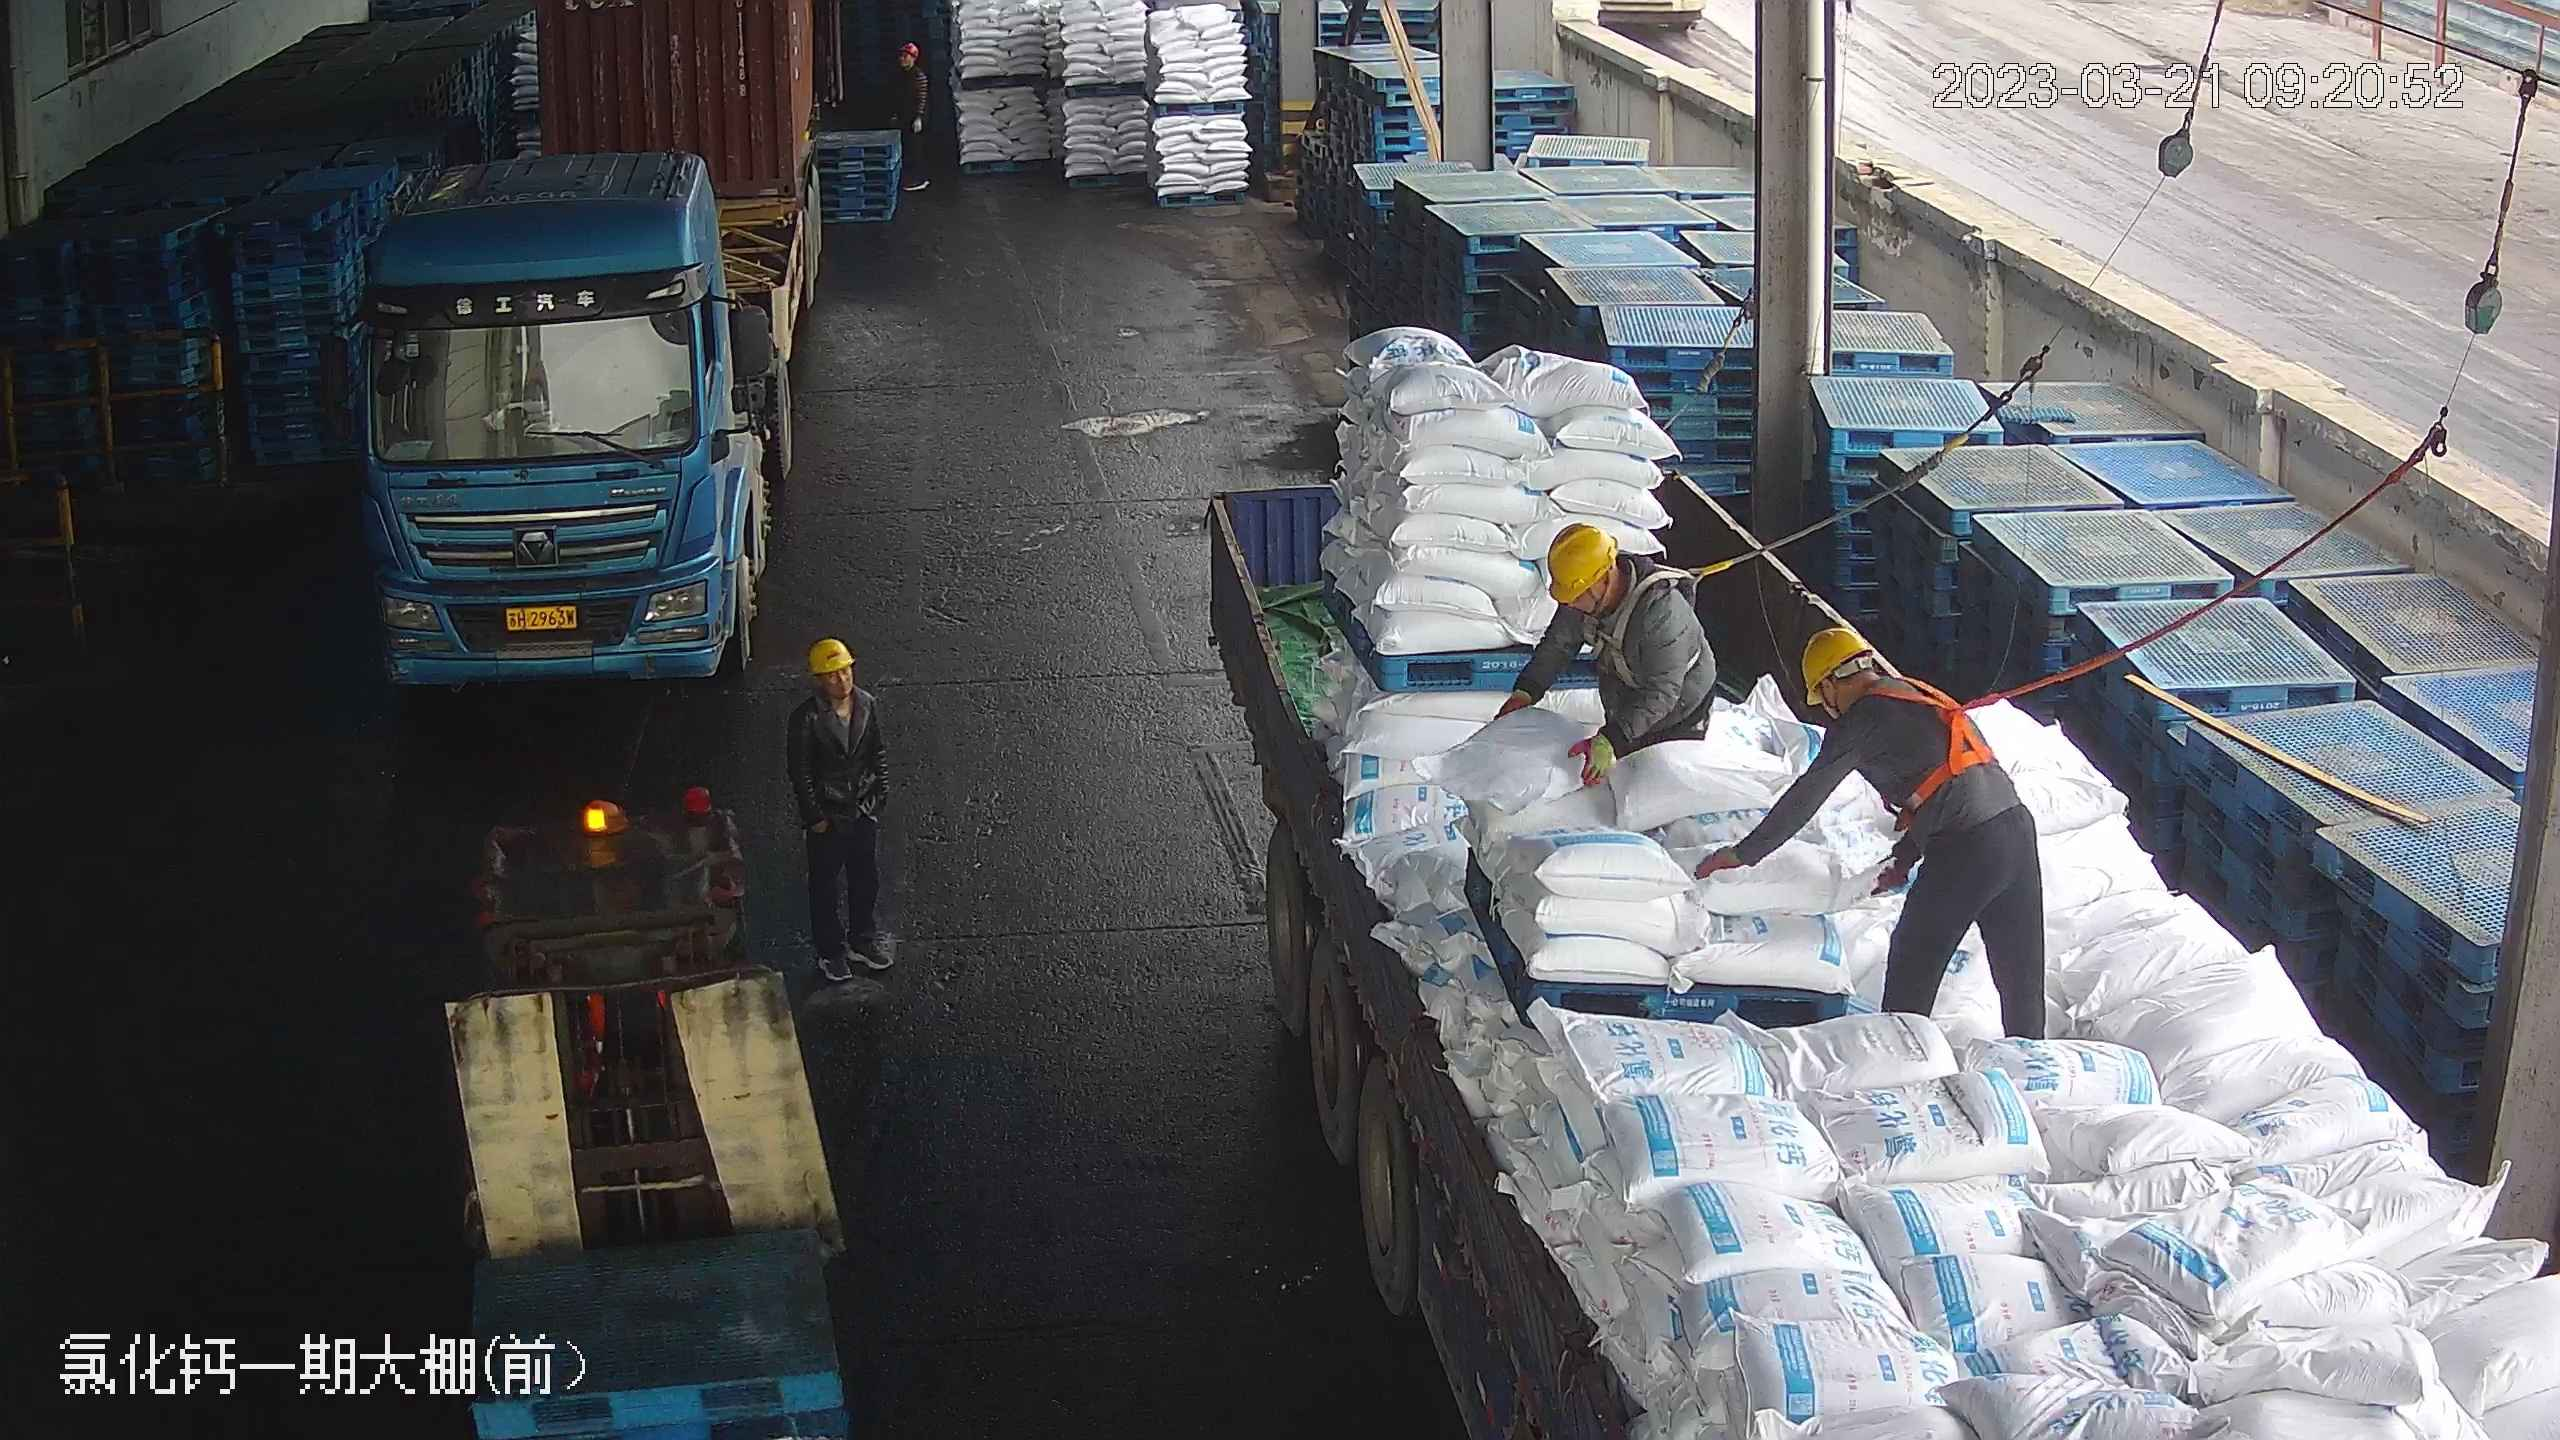belt: (1863, 668, 2017, 814), (1586, 552, 1716, 697)
head: (1793, 625, 1955, 774), (1535, 518, 1689, 660), (788, 635, 888, 745), (889, 40, 930, 89)
helmet: (1797, 624, 1875, 709), (1542, 520, 1617, 605), (804, 635, 854, 672), (895, 43, 920, 62)
people: (1692, 624, 2054, 1041), (1488, 519, 1722, 792), (784, 634, 900, 986), (887, 34, 934, 196)
truck: (1216, 255, 2478, 1416), (322, 1, 829, 683)
